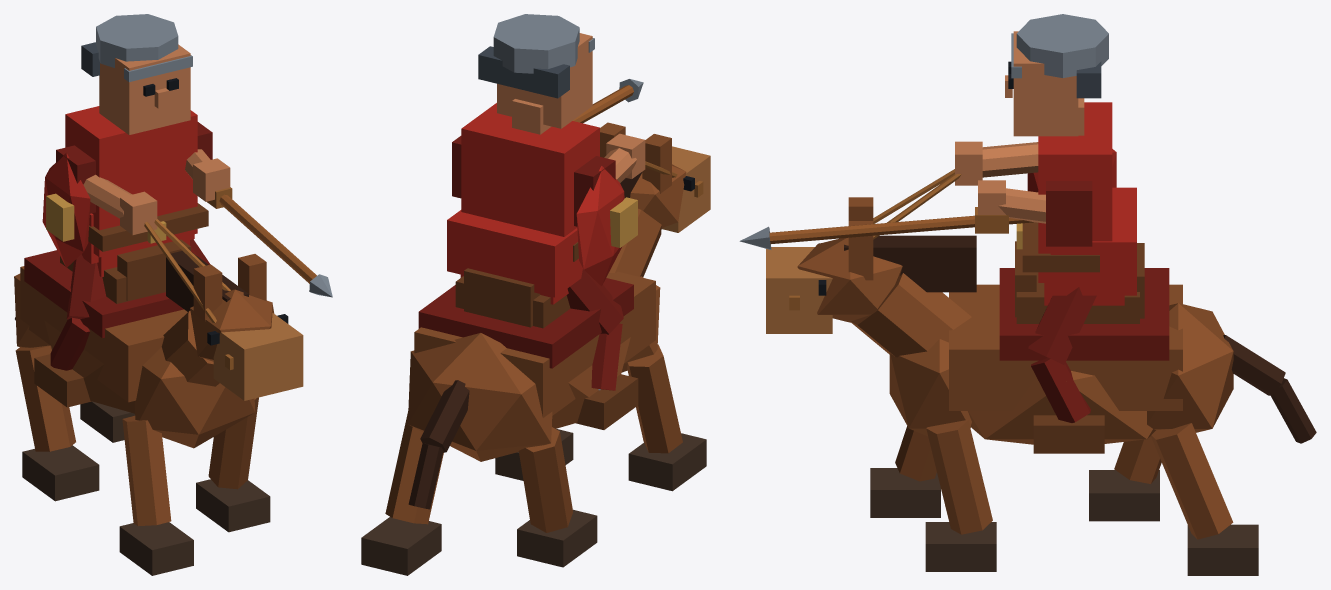
The model's file is equites.glb.
The picture shows the model from 3 angles, left to right: view 1: azimuth 30°, elevation 25°; view 2: azimuth 150°, elevation 25°; view 3: azimuth 270°, elevation 25°; orthographic projection. The views are drawn at different scales.
Parts seen in each view (by area): view 1: 51_Equite_Tunica_Busto, 03_Cavallo_Petto, 02_Cavallo_Dorso, 07_Cavallo_Muso, 62_Equite_Viso, 30_Cavallo_Coperta_Sella, 20_Zampa_Anteriore_Sinistra, 66_Equite_Elmo, 25_Zoccolo_Posteriore_Sinistro, 24_Zampa_Posteriore_Sinistra, 21_Zoccolo_Anteriore_Sinistro, 23_Zoccolo_Anteriore_Destro (+28 smaller); view 2: 51_Equite_Tunica_Busto, 04_Cavallo_Groppa, 52_Equite_Tunica_Falda, 30_Cavallo_Coperta_Sella, 02_Cavallo_Dorso, 66_Equite_Elmo, 24_Zampa_Posteriore_Sinistra, 20_Zampa_Anteriore_Sinistra, 27_Zoccolo_Posteriore_Destro, 95_Scudo_Ovale, 62_Equite_Viso, 33_Cavallo_Arcione (+25 smaller); view 3: 02_Cavallo_Dorso, 30_Cavallo_Coperta_Sella, 04_Cavallo_Groppa, 51_Equite_Tunica_Busto, 05_Cavallo_Collo, 01_Cavallo_Corpo, 52_Equite_Tunica_Falda, 26_Zampa_Posteriore_Destra, 12_Cavallo_Criniera, 22_Zampa_Anteriore_Destra, 03_Cavallo_Petto, 62_Equite_Viso (+24 smaller).
Boxes of the visible parts, x1,y1,x2,y2 form: 51_Equite_Tunica_Busto: (65,106,197,257); 03_Cavallo_Petto: (134,347,255,448); 02_Cavallo_Dorso: (20,266,187,402); 07_Cavallo_Muso: (213,313,303,400); 62_Equite_Viso: (99,44,190,134); 30_Cavallo_Coperta_Sella: (24,250,183,338); 20_Zampa_Anteriore_Sinistra: (122,415,171,526); 66_Equite_Elmo: (96,14,178,67); 25_Zoccolo_Posteriore_Sinistro: (22,445,99,501); 24_Zampa_Posteriore_Sinistra: (15,345,75,451); 21_Zoccolo_Anteriore_Sinistro: (119,522,193,575); 23_Zoccolo_Anteriore_Destro: (196,479,270,532); 51_Equite_Tunica_Busto: (461,103,599,236); 04_Cavallo_Groppa: (408,333,552,461); 52_Equite_Tunica_Falda: (447,210,582,297); 30_Cavallo_Coperta_Sella: (418,278,633,368); 02_Cavallo_Dorso: (414,271,655,417); 66_Equite_Elmo: (493,14,579,73); 24_Zampa_Posteriore_Sinistra: (518,427,572,532); 20_Zampa_Anteriore_Sinistra: (627,344,682,453); 27_Zoccolo_Posteriore_Destro: (361,517,441,575); 95_Scudo_Ovale: (576,166,624,286); 62_Equite_Viso: (497,33,592,128); 33_Cavallo_Arcione: (464,268,540,327); 02_Cavallo_Dorso: (949,284,1182,410); 30_Cavallo_Coperta_Sella: (999,268,1169,360); 04_Cavallo_Groppa: (1147,303,1233,432); 51_Equite_Tunica_Busto: (1038,102,1112,282); 05_Cavallo_Collo: (850,273,971,357); 01_Cavallo_Corpo: (968,371,1155,444); 52_Equite_Tunica_Falda: (1050,187,1136,295); 26_Zampa_Posteriore_Destra: (1151,423,1233,539); 12_Cavallo_Criniera: (844,235,976,292); 22_Zampa_Anteriore_Destra: (926,419,992,534); 03_Cavallo_Petto: (889,339,971,436); 62_Equite_Viso: (1013,31,1078,136).
Bounding box in the file's own units: 1.38 × 3.59 × 3.75.
